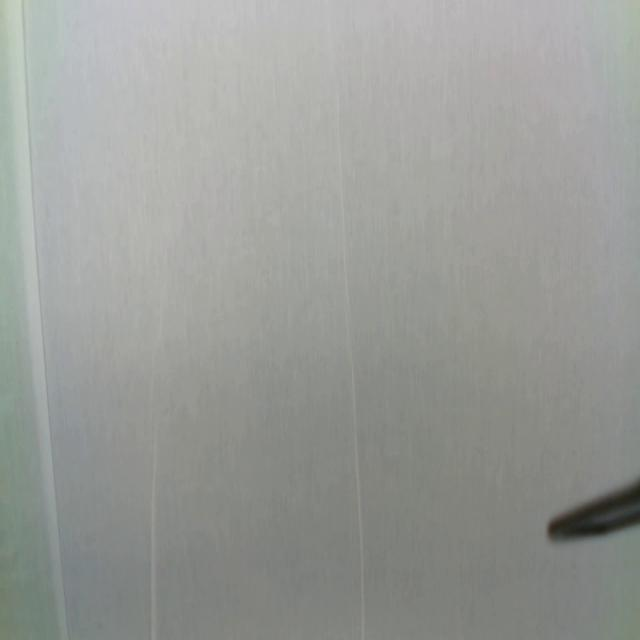crease: (21, 2, 68, 640), (337, 98, 365, 640), (149, 430, 159, 639)
